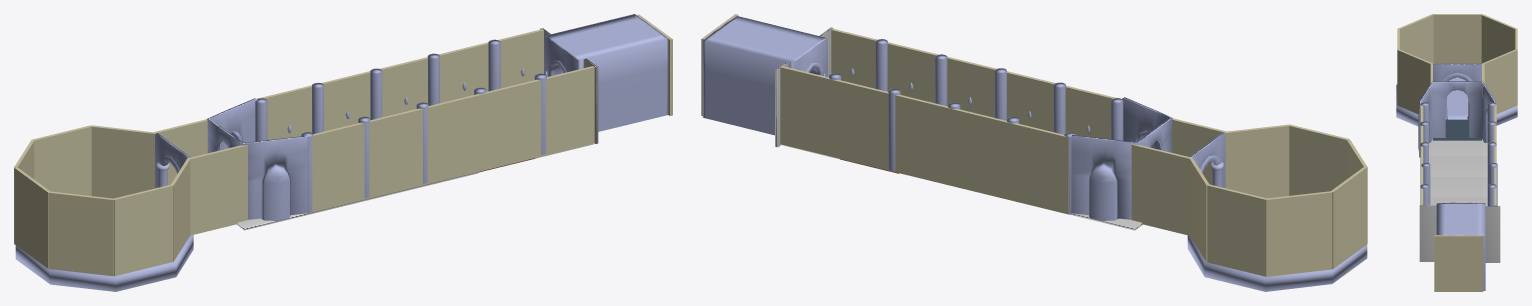
Rendered from ReptileMageSchool_Blockout.fbx.
3 views of the same model, side by side, from view 1: azimuth 30°, elevation 25°; view 2: azimuth 150°, elevation 25°; view 3: azimuth 270°, elevation 25° (orthographic). The views are drawn at different scales.
Parts seen in each view (by area): view 1: StartingEntrance_LP, GrandArch_LP, Wall_400x205, Wall_400x204, Wall_400x511, Wall_400x502, Wall_400x500, Wall_400x201, Wall_400x517, Wall_400x504, Wall_400x506, Wall_400x200 (+22 smaller); view 2: StartingEntrance_LP, GrandArch_LP, Wall_400x207, Wall_400x200, Wall_400x507, Wall_400x505, Wall_400x512, Wall_400x516, Wall_400x503, Wall_400x203, Wall_400x501, Wall_400x204 (+18 smaller); view 3: Wall_400x513, GrandArch_LP, Wall_400x206, StartingEntrance_LP, Wall_400x201, Wall_400x203, Floor_Octo, Wall_400x207, Wall_400x205, Floor_LP5, Floor_LP4, Wall_Corner_LP (+17 smaller).
Boxes of the visible parts, x1,y1,x2,y2 form: StartingEntrance_LP: (544, 14, 668, 131); GrandArch_LP: (207, 98, 307, 220); Wall_400x205: (48, 191, 113, 276); Wall_400x204: (113, 184, 172, 276); Wall_400x511: (190, 145, 247, 235); Wall_400x502: (425, 94, 483, 184); Wall_400x500: (535, 66, 594, 157); Wall_400x201: (91, 125, 156, 198); Wall_400x517: (483, 80, 539, 170); Wall_400x504: (367, 108, 425, 198); Wall_400x506: (312, 123, 366, 212); Wall_400x200: (32, 125, 91, 195); StartingEntrance_LP: (702, 16, 827, 135); GrandArch_LP: (1071, 97, 1172, 220); Wall_400x207: (1266, 191, 1332, 276); Wall_400x200: (1207, 184, 1266, 276); Wall_400x507: (1009, 123, 1068, 214); Wall_400x505: (951, 108, 1009, 199); Wall_400x512: (1131, 144, 1190, 235); Wall_400x516: (833, 79, 891, 171); Wall_400x503: (892, 94, 950, 185); Wall_400x203: (1224, 124, 1290, 198); Wall_400x501: (780, 66, 839, 156); Wall_400x204: (1289, 124, 1348, 195); Wall_400x513: (1434, 235, 1483, 291); GrandArch_LP: (1418, 81, 1495, 157); Wall_400x206: (1433, 14, 1481, 63); StartingEntrance_LP: (1436, 202, 1485, 290); Wall_400x201: (1481, 49, 1517, 113); Wall_400x203: (1397, 49, 1432, 113); Floor_Octo: (1396, 77, 1517, 126); Wall_400x207: (1481, 14, 1517, 63); Wall_400x205: (1398, 14, 1433, 63); Floor_LP5: (1429, 156, 1487, 176); Floor_LP4: (1430, 177, 1487, 197); Wall_Corner_LP: (1419, 205, 1436, 261).
Size of what is drawn, in the model's own units: 4290 by 989 by 610.
